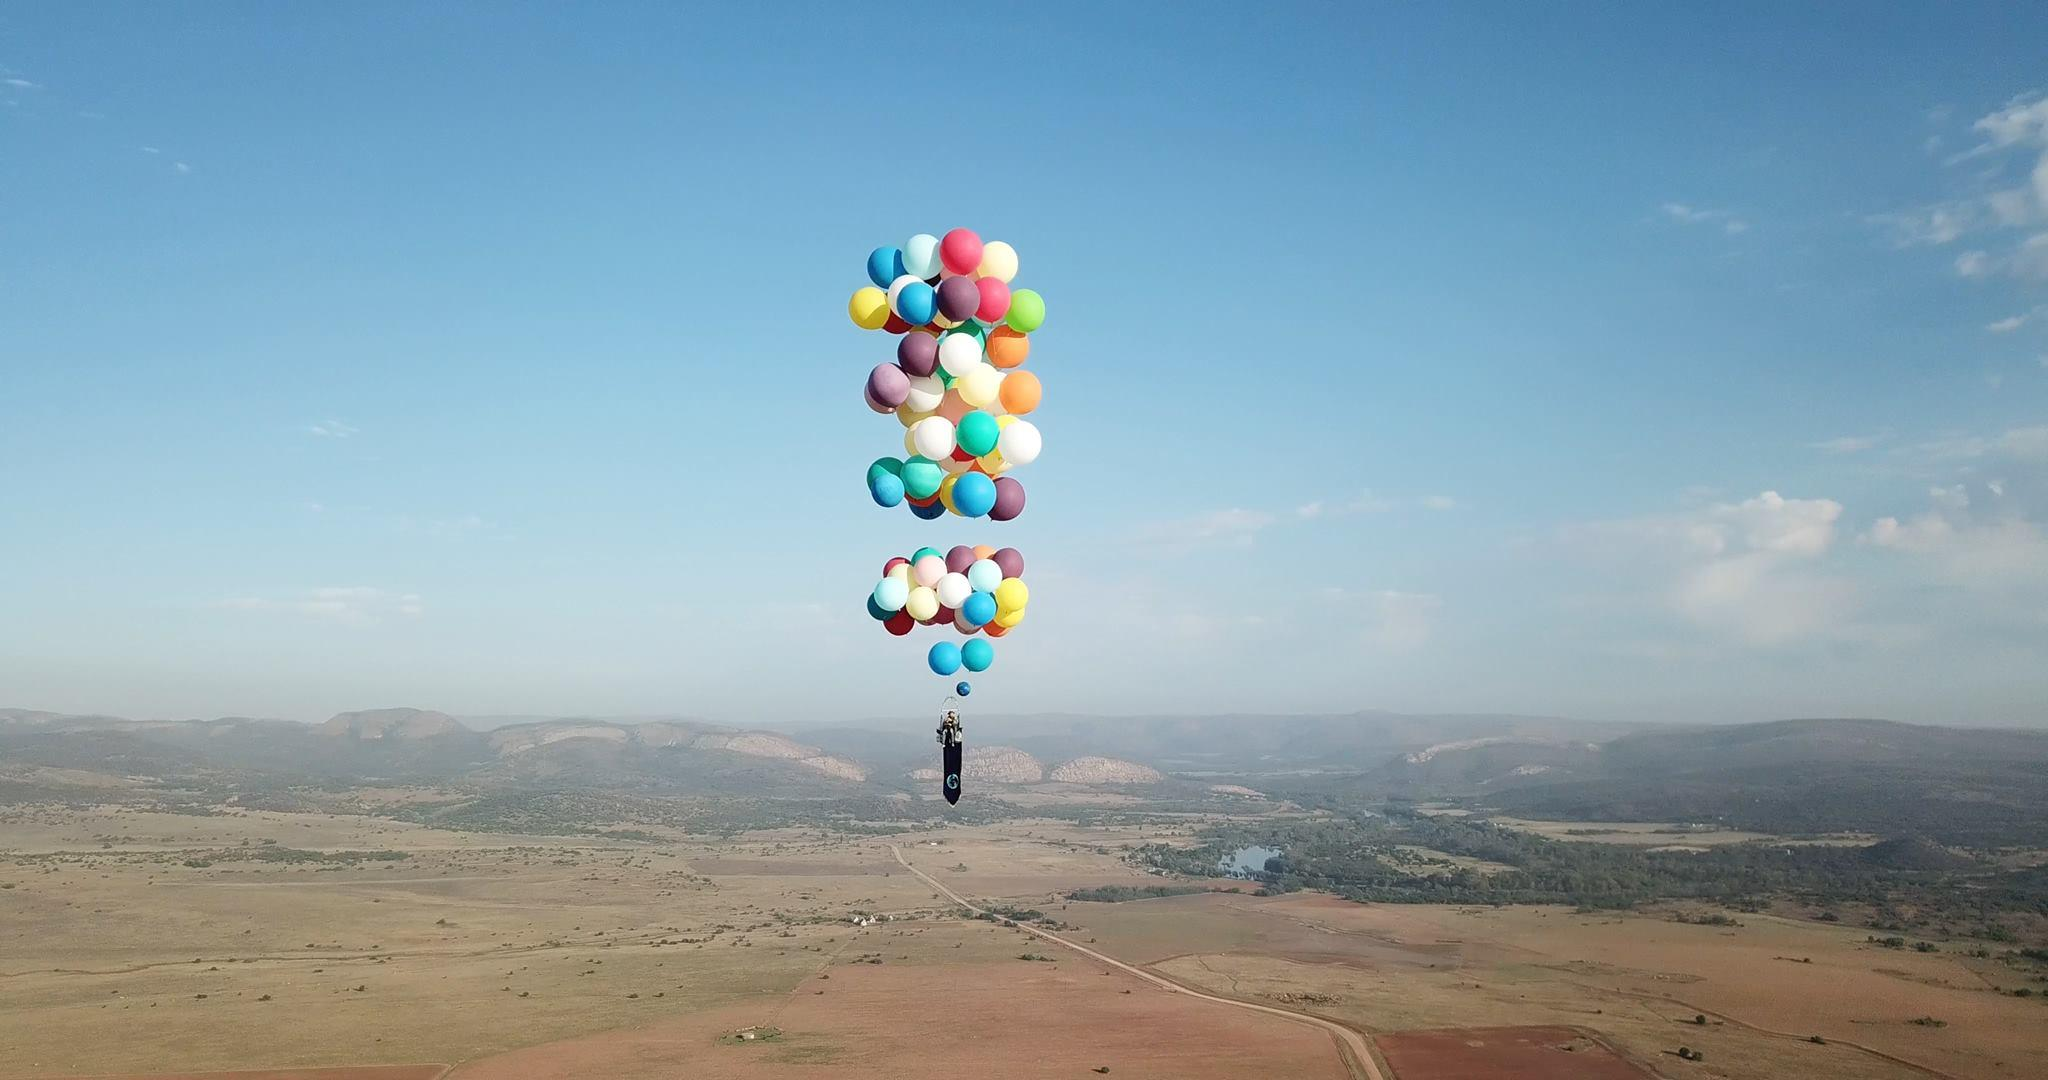Balloon: (939, 228, 983, 276), (951, 470, 996, 518), (936, 276, 981, 321), (939, 332, 983, 377), (902, 234, 945, 281), (897, 281, 939, 327), (958, 411, 1000, 457), (897, 332, 940, 375), (914, 416, 958, 459), (998, 421, 1042, 465), (899, 455, 943, 499), (1000, 370, 1042, 415), (978, 240, 1019, 286), (987, 325, 1029, 369), (849, 286, 890, 331), (868, 362, 909, 407), (974, 276, 1010, 324), (1006, 289, 1046, 332), (868, 244, 903, 289), (906, 585, 941, 621), (937, 572, 970, 608), (968, 560, 1002, 594), (874, 577, 909, 610), (962, 591, 997, 623), (871, 474, 905, 507), (913, 556, 947, 588), (929, 641, 960, 675), (962, 638, 993, 672), (996, 577, 1027, 610)
